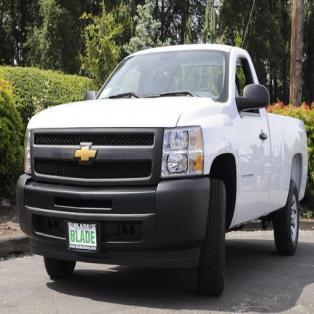Auto: (15, 44, 308, 294)
